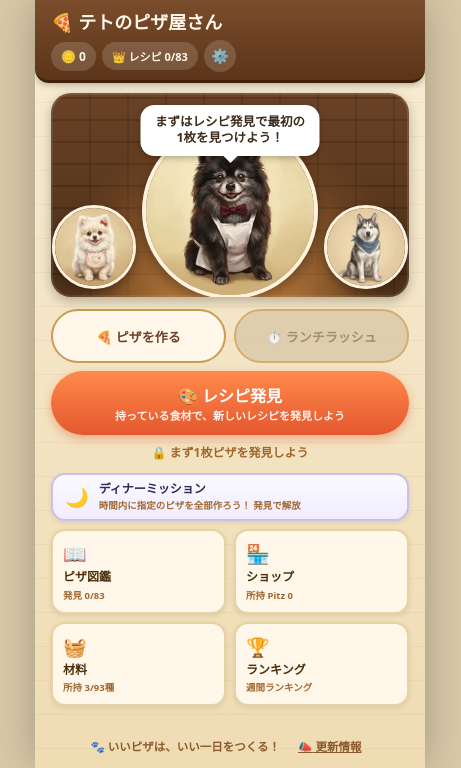
Test: Settings entry point (Issue #89) › closes via 閉じる, returning to a plain HOME
Click the button named "設定".
click(220, 56)  # box x1=204 y1=40 x2=236 y2=72
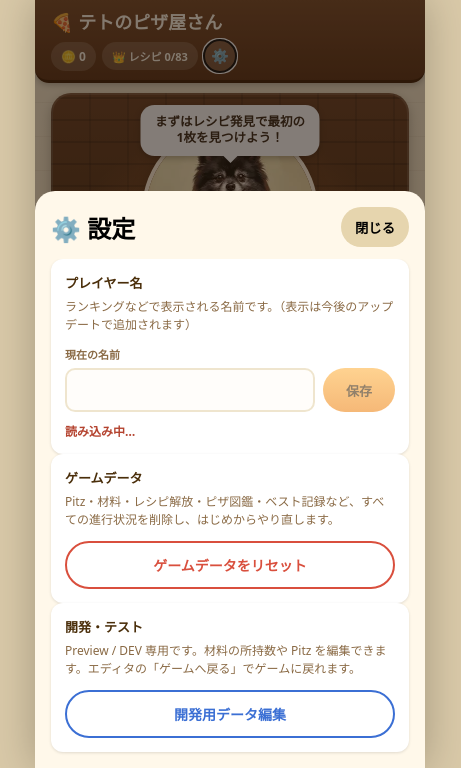
Click the button "閉じる".
click(375, 227)  # box x1=341 y1=207 x2=409 y2=247
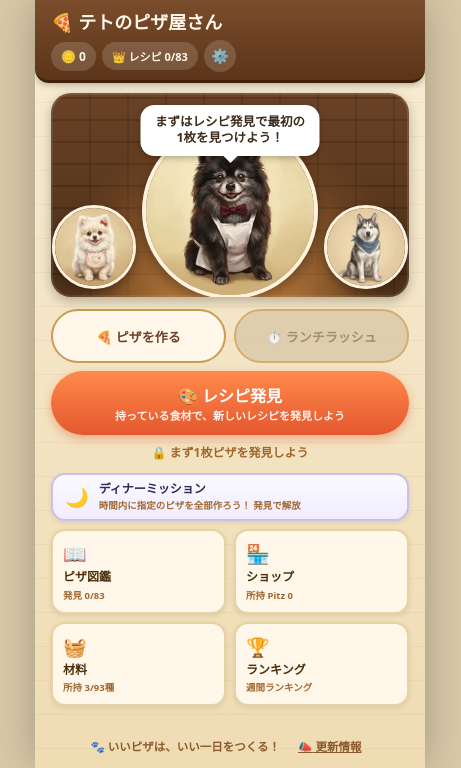
Check: the element with class "dex-overlay" is gone
